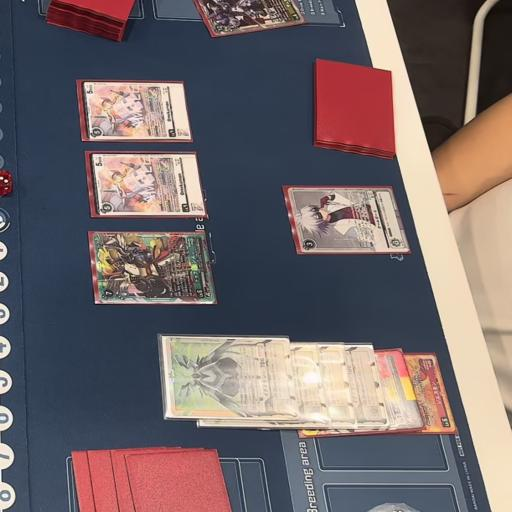card: (159, 336, 303, 424), (86, 230, 219, 306), (286, 184, 412, 255), (84, 151, 210, 218), (73, 77, 197, 143), (368, 346, 426, 432), (402, 352, 458, 435), (344, 339, 390, 430), (197, 0, 305, 38), (287, 339, 332, 429), (315, 342, 359, 429)
